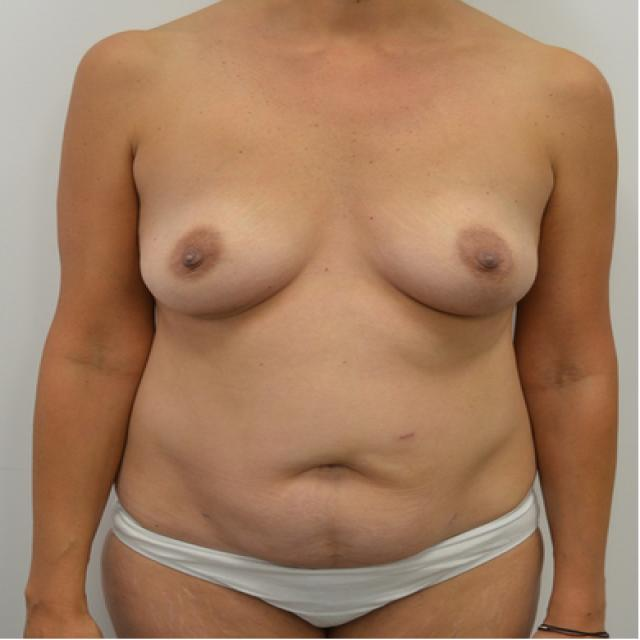Seno ileso: (119, 150, 328, 331), (342, 152, 550, 333)
